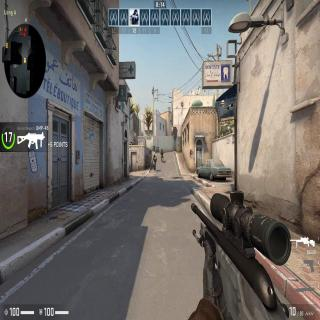CT-Body: (153, 154, 157, 170), (160, 148, 163, 161), (130, 141, 134, 145)
CT-Head: (153, 154, 155, 157), (130, 141, 132, 144), (161, 148, 162, 150)
